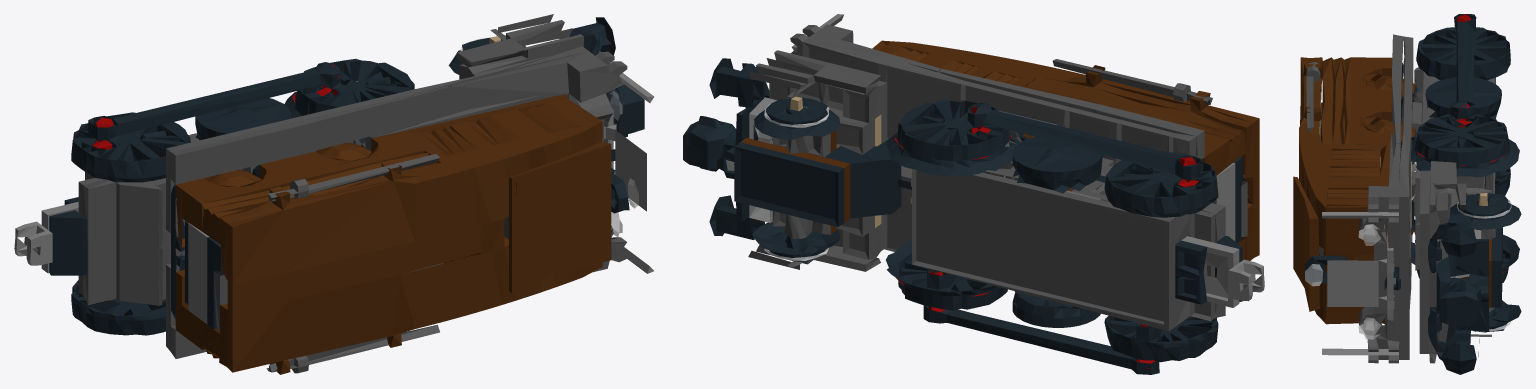
The model's file is hood-unit.glb.
The picture shows the model from 3 angles, left to right: view 1: azimuth 30°, elevation 25°; view 2: azimuth 150°, elevation 25°; view 3: azimuth 270°, elevation 25°; orthographic projection. The views are drawn at different scales.
Size of the model in its own units: 175 by 61.88 by 71.1.
